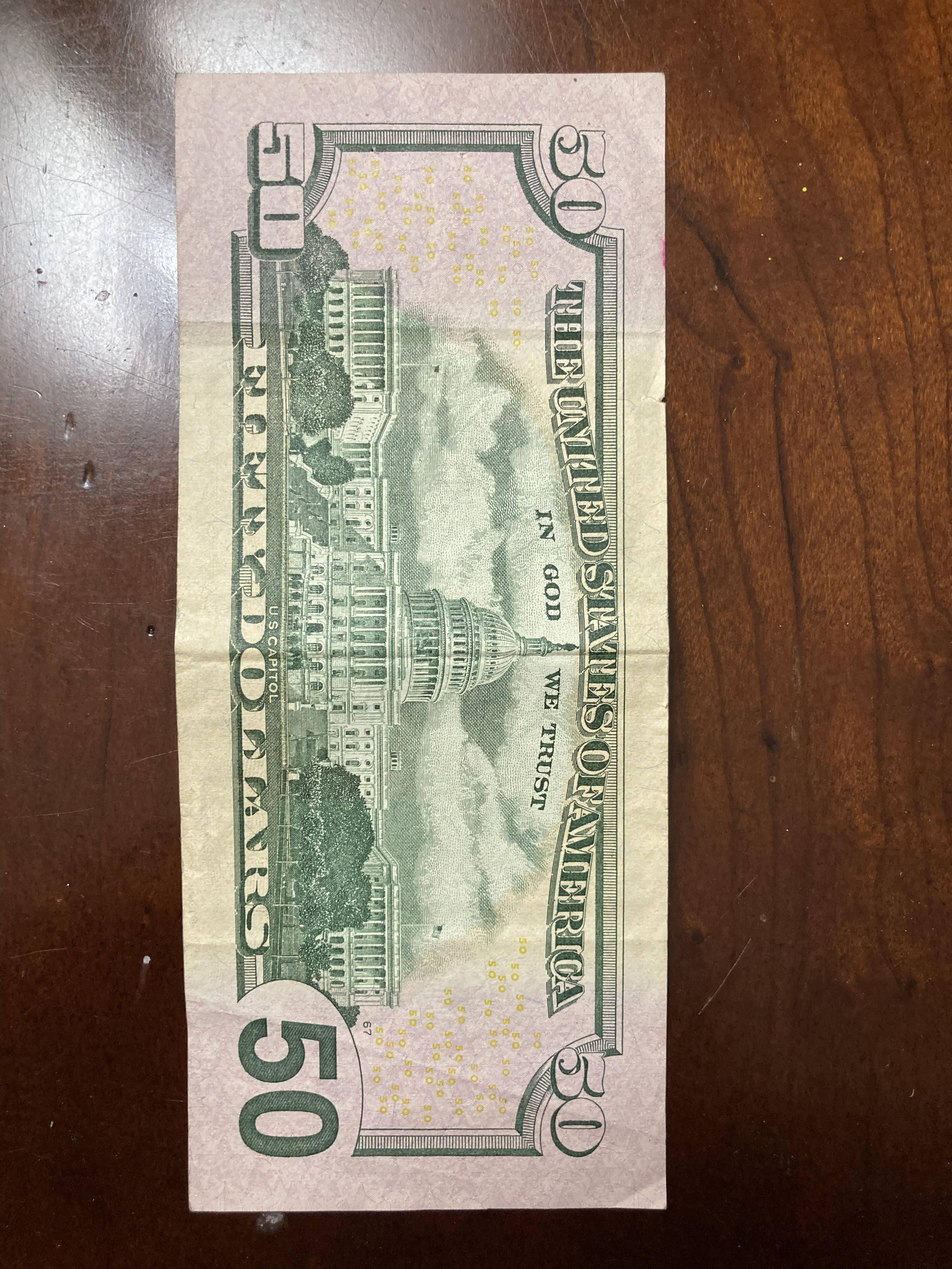fifty-back: (177, 73, 665, 1215)
